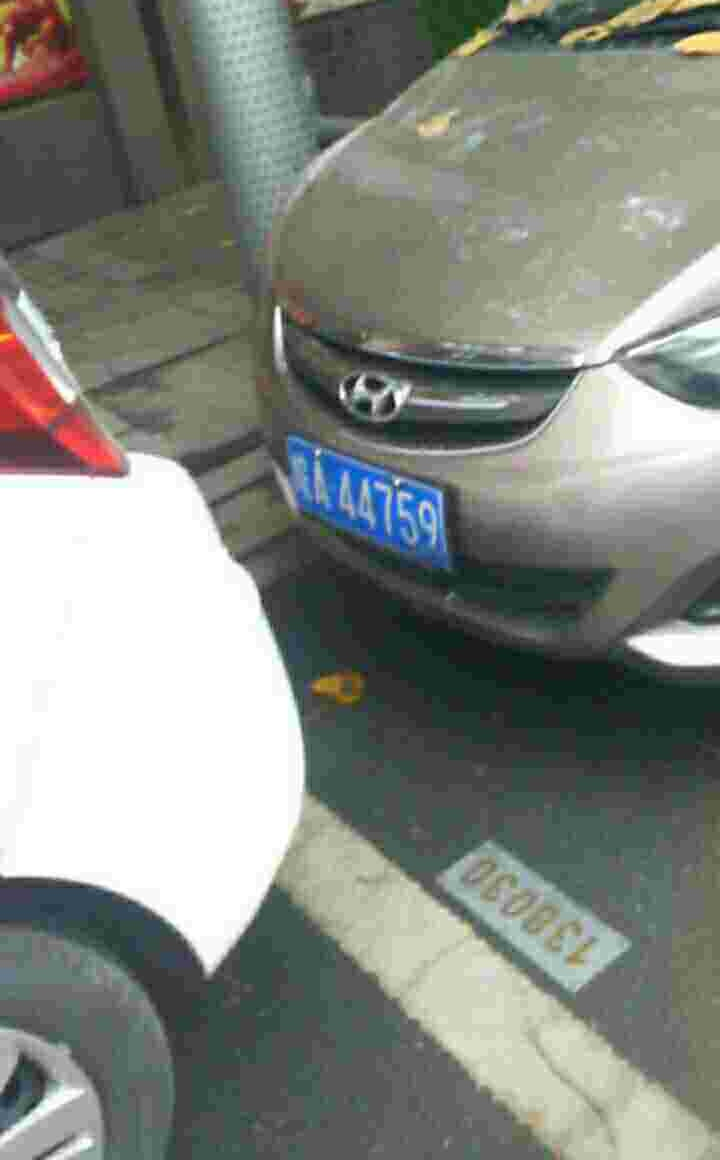license_plate: (286, 434, 447, 568)
